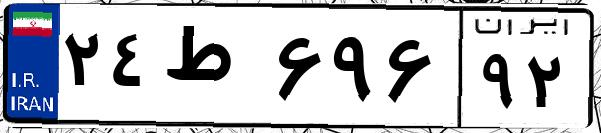2: (57, 26, 110, 100), (525, 38, 570, 115)
4: (110, 28, 158, 98)
6: (270, 28, 330, 110), (385, 28, 445, 110)
9: (330, 28, 385, 110), (475, 38, 525, 113)
ط: (158, 20, 270, 120)
